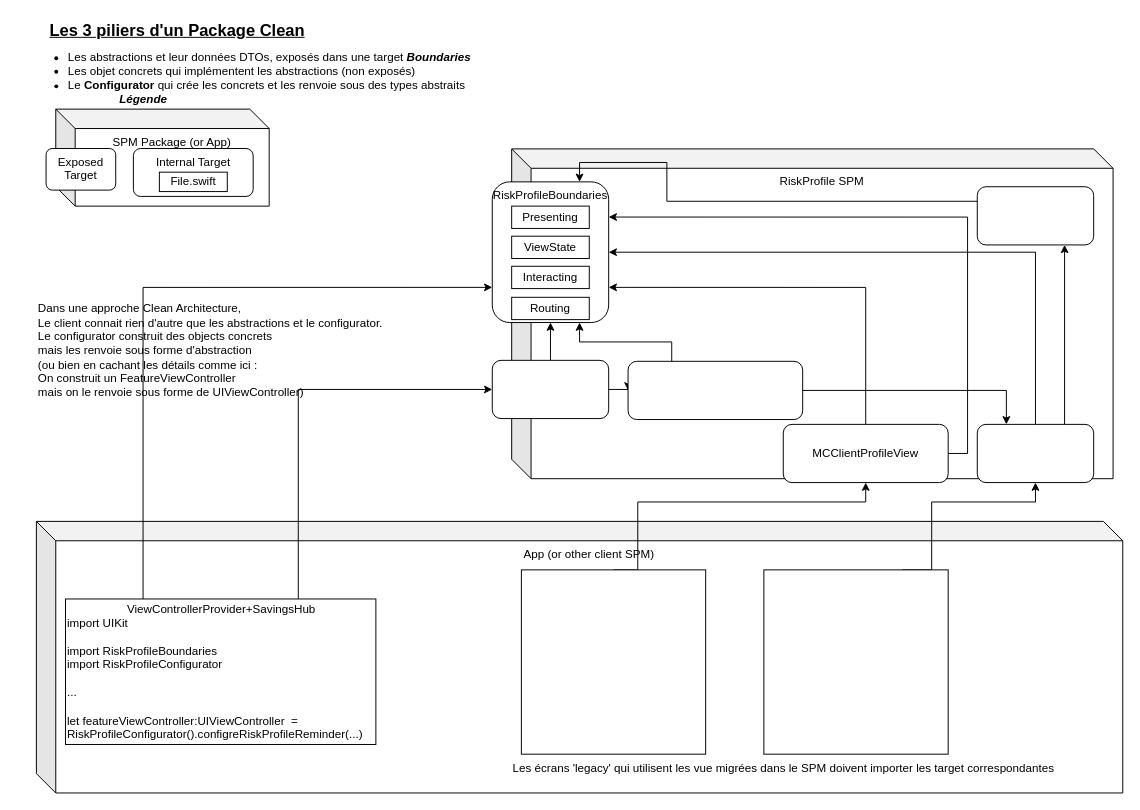
This 1140x810 diagram has some shape labels left out. The centre of each missing label's shape, as x and y in pixels:
"FeatureConfigurator" goes at [550,389].
"import UIKit import MCClientProfileView import FeatureBoundaries" goes at [613,661].
"import UIKit import MCRiskViewProfile import FeatureBoundaries" goes at [855,661].
"MCRiskReminderViewController" goes at [715,390].
"MCRiskViewProfile" goes at [1035,453].
"RiskJaugeView" goes at [1035,215].
